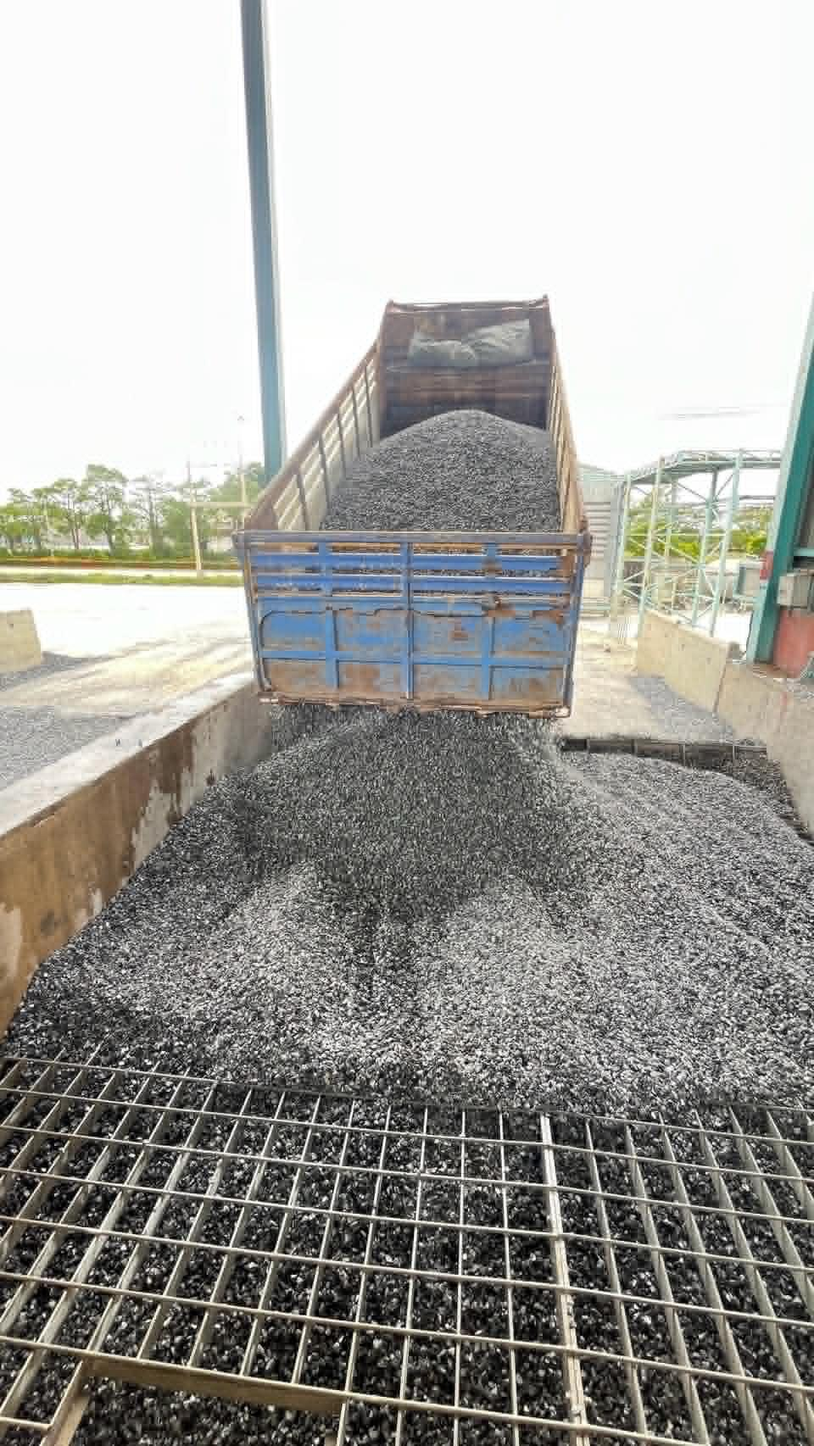gravel: (8, 709, 813, 1110), (322, 409, 560, 531), (75, 1384, 327, 1445), (0, 705, 125, 788), (718, 757, 810, 841), (630, 673, 733, 742), (755, 1137, 811, 1260), (27, 1094, 86, 1169), (0, 653, 87, 691), (26, 1356, 70, 1419), (753, 1386, 800, 1443), (16, 1285, 58, 1338), (775, 1112, 811, 1171), (346, 1402, 393, 1445), (5, 1226, 45, 1271), (405, 1413, 450, 1445), (461, 1421, 510, 1445), (28, 1098, 50, 1132), (151, 1078, 174, 1107), (739, 1111, 766, 1135), (16, 1068, 35, 1090), (0, 1358, 20, 1377), (92, 1069, 109, 1087), (0, 1280, 11, 1301), (124, 1082, 134, 1098), (2, 1142, 8, 1163), (60, 1071, 69, 1082), (11, 1137, 14, 1155), (529, 1433, 537, 1438), (85, 1079, 90, 1087), (94, 658, 103, 661), (53, 1082, 57, 1087), (17, 1141, 20, 1147), (555, 1434, 558, 1438), (24, 1210, 28, 1213)
